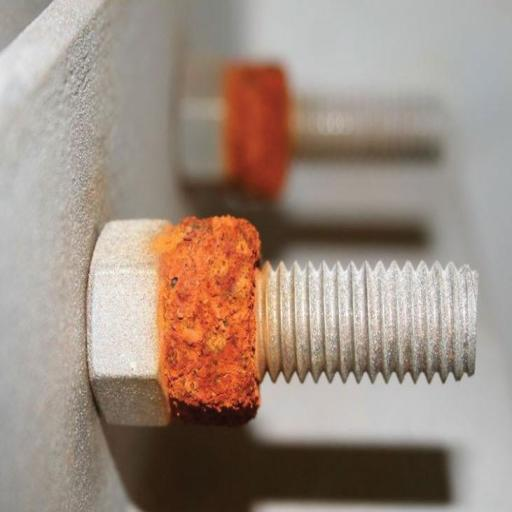segmentation: (155, 215, 261, 423), (225, 64, 291, 195)
